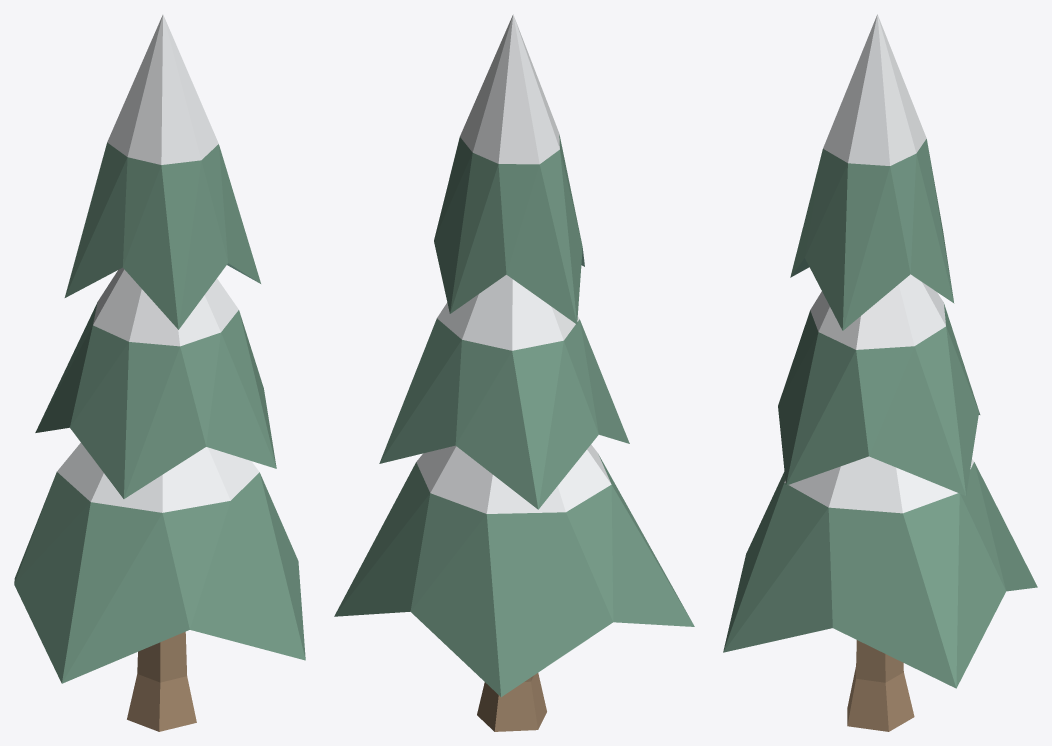
The model's file is snowpine.glb.
The picture shows the model from 3 angles, left to right: view 1: azimuth 30°, elevation 25°; view 2: azimuth 150°, elevation 25°; view 3: azimuth 270°, elevation 25°; orthographic projection.
Parts seen in each view (by area): view 1: tree_snowpine; view 2: tree_snowpine; view 3: tree_snowpine.
Part boxes in pixels (bbox=[...]): tree_snowpine: bbox=[14, 14, 305, 731]; tree_snowpine: bbox=[334, 14, 694, 731]; tree_snowpine: bbox=[723, 14, 1037, 731].
Bounding box in the file's own units: 0.3928 × 0.94 × 0.3816.
